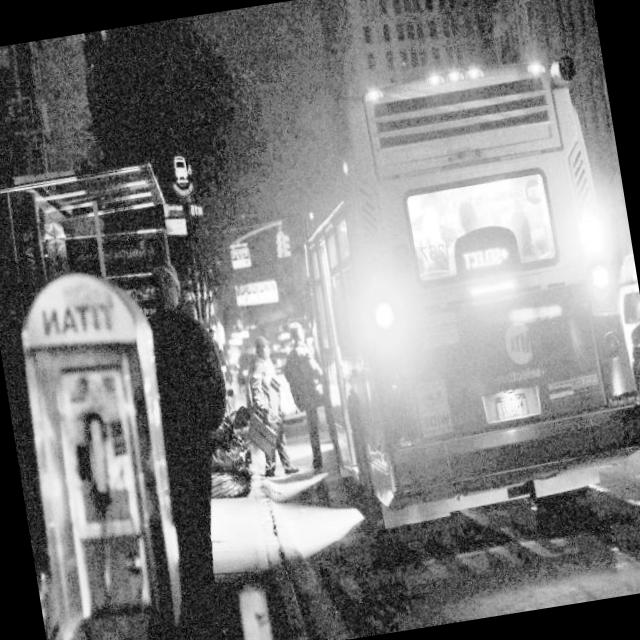Bus: (263, 16, 640, 555)
Car: (603, 244, 640, 436)
Person: (220, 320, 302, 514), (282, 304, 341, 484)
